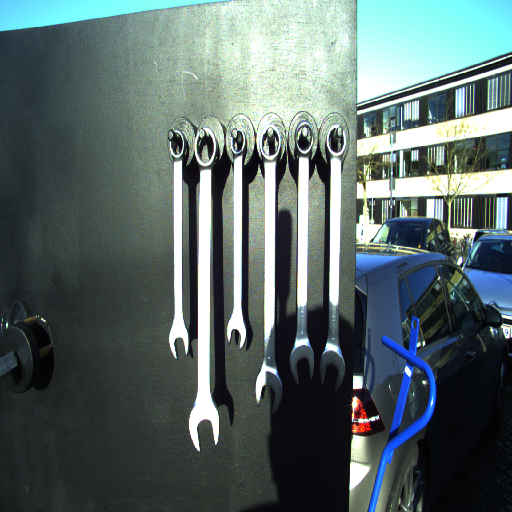bottom: (187, 406, 221, 452), (253, 369, 286, 414), (317, 346, 345, 394), (288, 343, 316, 385), (167, 324, 194, 359), (225, 315, 248, 350)
top: (192, 128, 220, 167), (257, 124, 283, 161), (291, 119, 316, 156), (324, 123, 347, 160), (166, 129, 188, 159), (228, 127, 249, 156)
